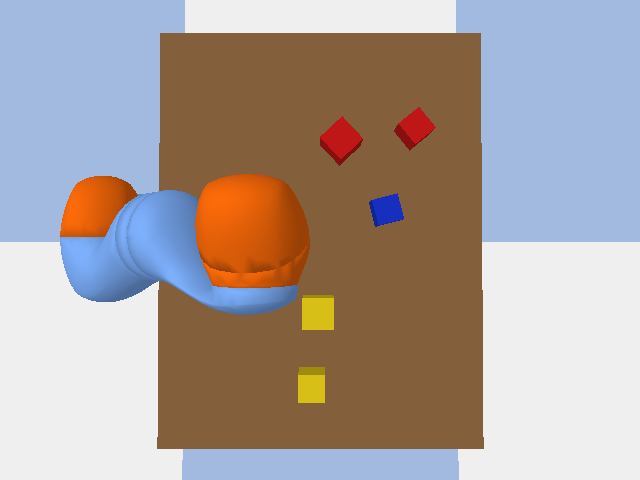blue_obj: (369, 193, 403, 226)
red_obj: (320, 116, 362, 165), (394, 107, 435, 150)
yellow_obj: (302, 295, 333, 329), (298, 367, 324, 402)
